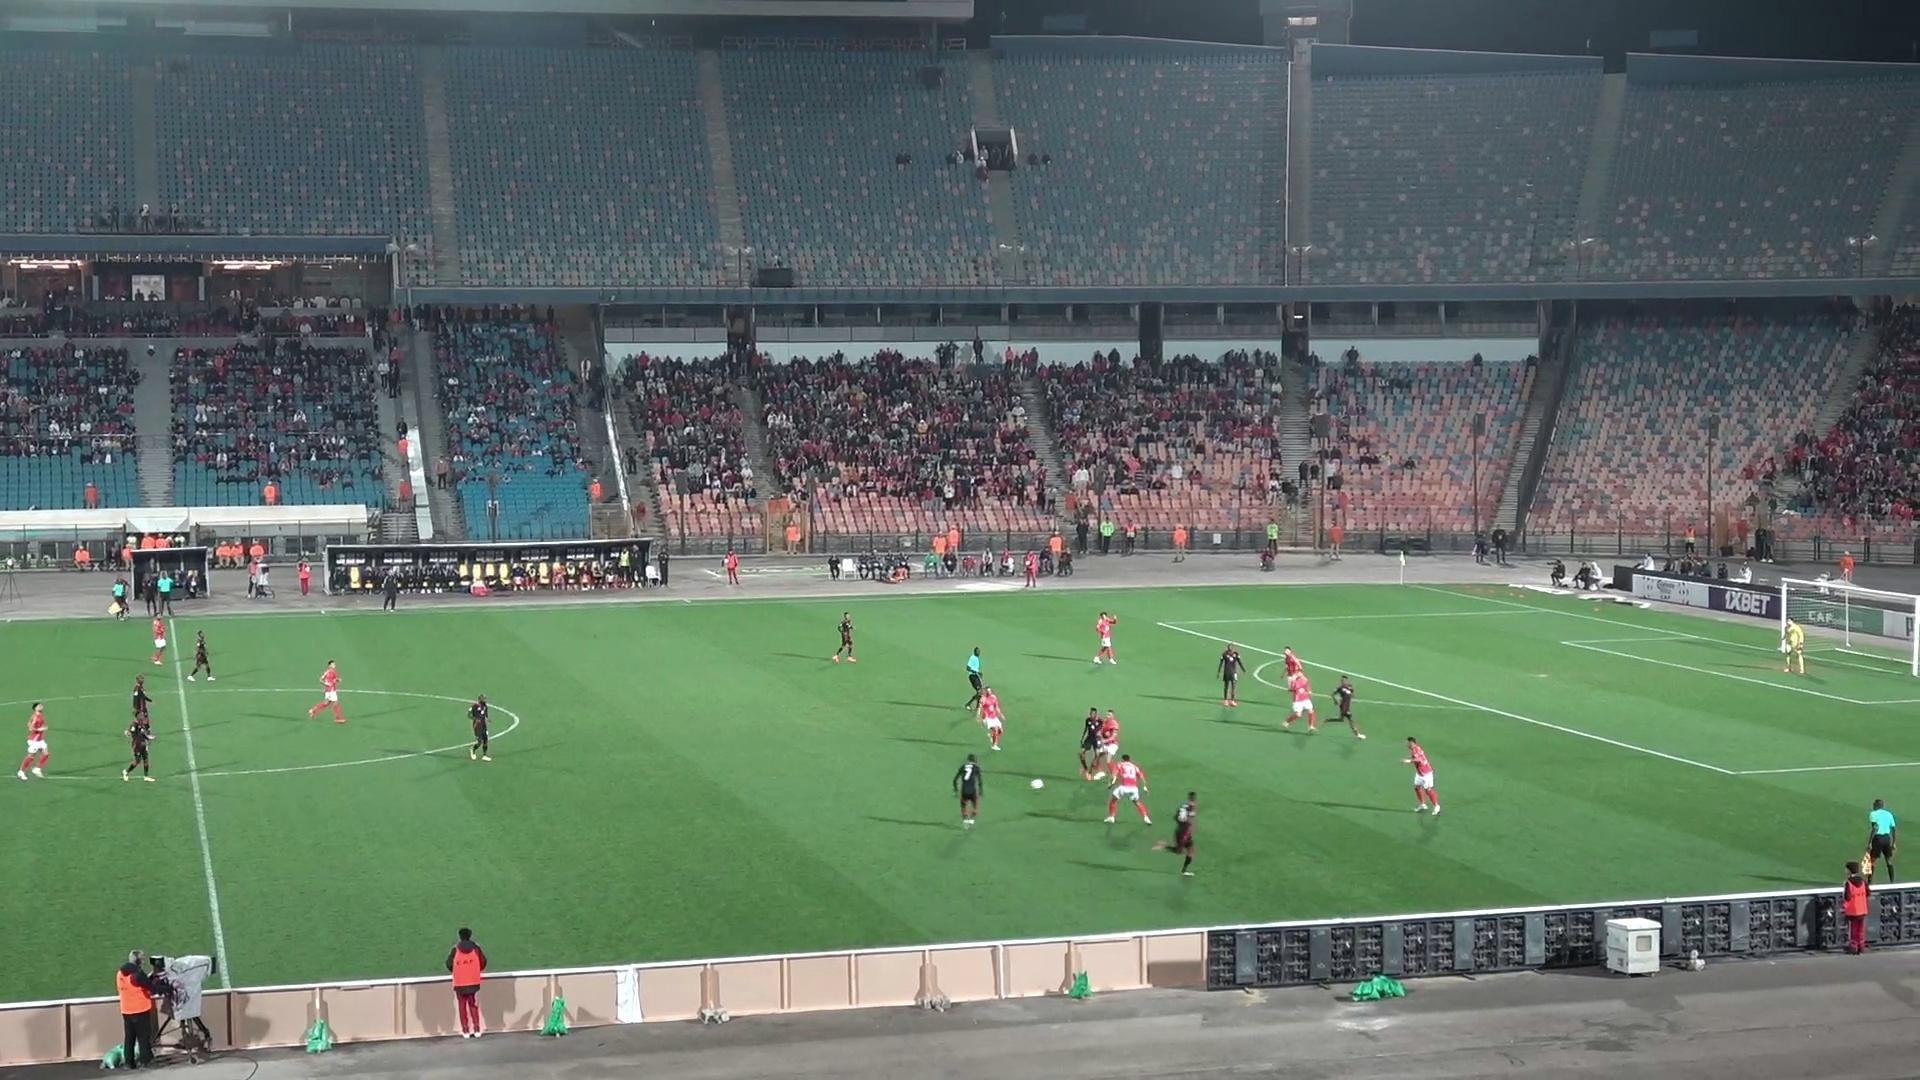Ball: (1030, 778, 1044, 793)
Refree: (1865, 798, 1898, 882), (154, 572, 185, 615), (964, 647, 986, 702), (108, 575, 129, 618)
Team1: (1104, 752, 1151, 824), (1400, 736, 1440, 815), (1283, 647, 1316, 731), (16, 703, 49, 781), (965, 686, 1004, 749), (309, 661, 345, 724), (1091, 711, 1120, 779), (146, 601, 173, 665), (1091, 611, 1117, 665)
Team2: (1160, 793, 1196, 876), (123, 708, 156, 781), (952, 753, 982, 825), (1328, 676, 1364, 737), (468, 695, 497, 761), (1077, 709, 1104, 781), (1218, 644, 1245, 707), (1779, 615, 1805, 674), (186, 630, 216, 680), (831, 612, 855, 663), (131, 674, 154, 719), (505, 713, 518, 731)
